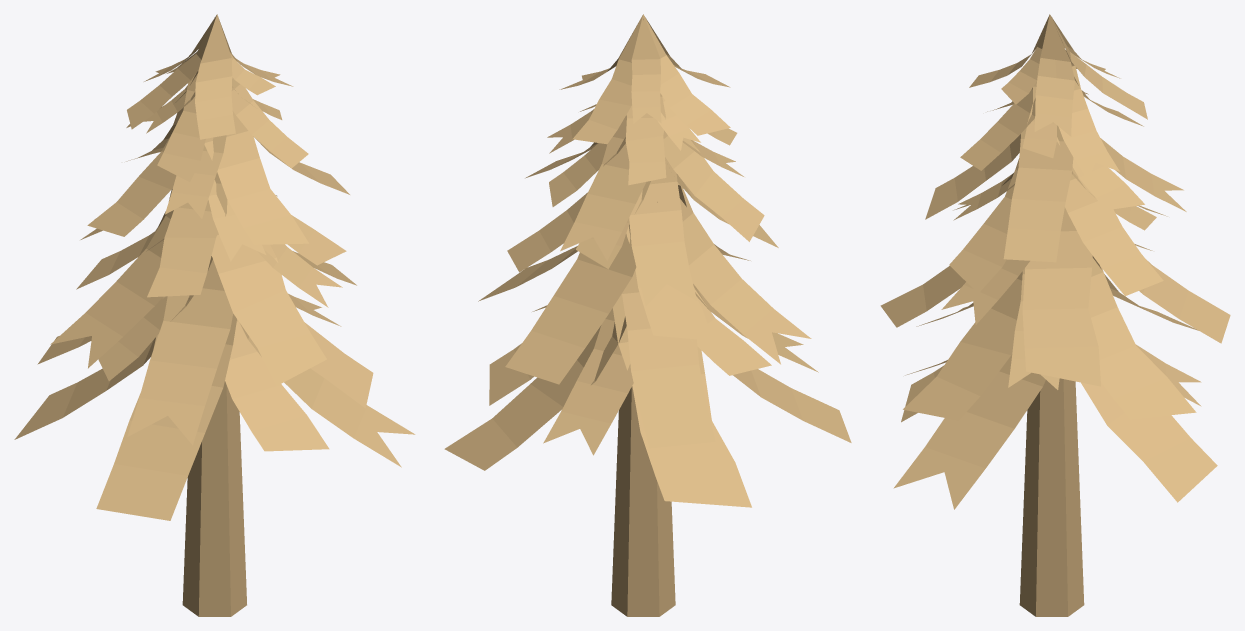
Rendered from Mega_Asset_s_Pack_Cylinder_022.FBX.
The picture shows the model from 3 angles, left to right: view 1: azimuth 30°, elevation 25°; view 2: azimuth 150°, elevation 25°; view 3: azimuth 270°, elevation 25°; orthographic projection.
Parts seen in each view (by area): view 1: Mega_Asset_s_Pack_Cylinder_022; view 2: Mega_Asset_s_Pack_Cylinder_022; view 3: Mega_Asset_s_Pack_Cylinder_022.
Part boxes in pixels (bbox=[...]): Mega_Asset_s_Pack_Cylinder_022: bbox=[14, 14, 415, 616]; Mega_Asset_s_Pack_Cylinder_022: bbox=[444, 14, 851, 616]; Mega_Asset_s_Pack_Cylinder_022: bbox=[880, 14, 1230, 616].
Size of what is drawn, in the model's own units: 329 by 316 by 588.
